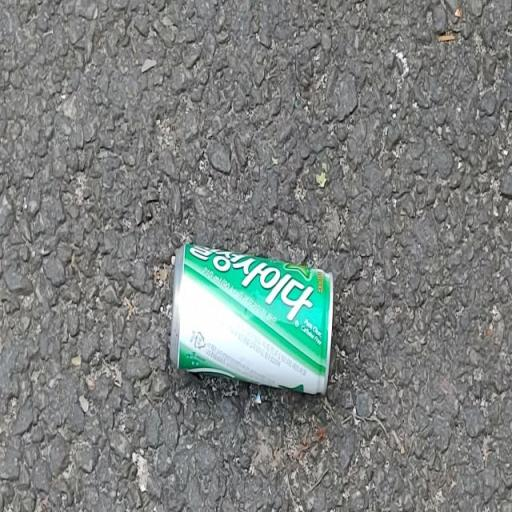metal: (143, 206, 351, 460)
